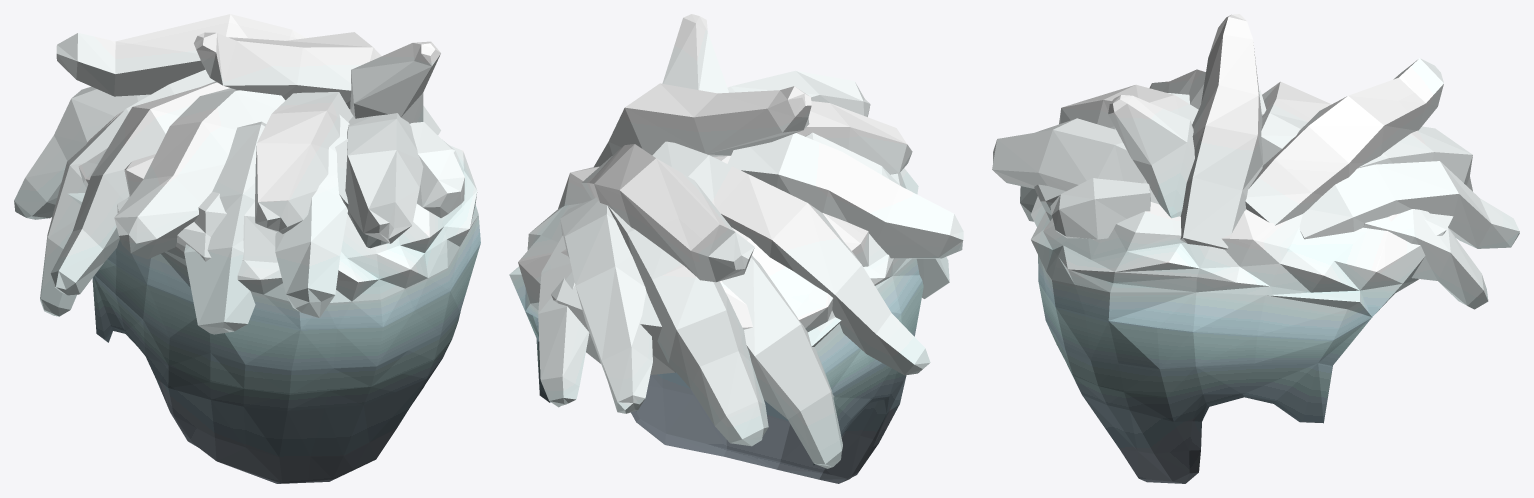
File: CharSkyKid_Hair_AP08ShortDreads_01.glb
The picture shows the model from 3 angles, left to right: view 1: azimuth 30°, elevation 25°; view 2: azimuth 150°, elevation 25°; view 3: azimuth 270°, elevation 25°; orthographic projection. The views are drawn at different scales.
Visible parts, largest first — view 1: CharSkyKid_Hair_AP08ShortDreads_01; view 2: CharSkyKid_Hair_AP08ShortDreads_01; view 3: CharSkyKid_Hair_AP08ShortDreads_01.
Part boxes in pixels (bbox=[...]): CharSkyKid_Hair_AP08ShortDreads_01: bbox=[14, 14, 480, 483]; CharSkyKid_Hair_AP08ShortDreads_01: bbox=[509, 14, 963, 483]; CharSkyKid_Hair_AP08ShortDreads_01: bbox=[992, 14, 1519, 483].
Size of the model in its own units: 2.71 by 2.99 by 3.43.
Materials: 1 (1 with a texture image).
